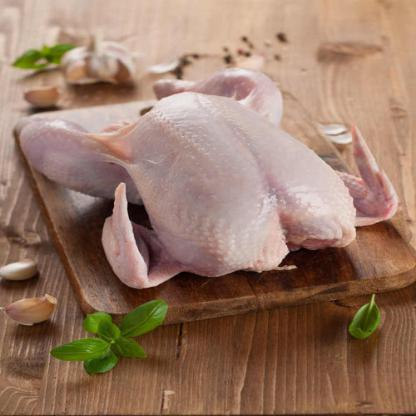chicken: (25, 63, 400, 292)
